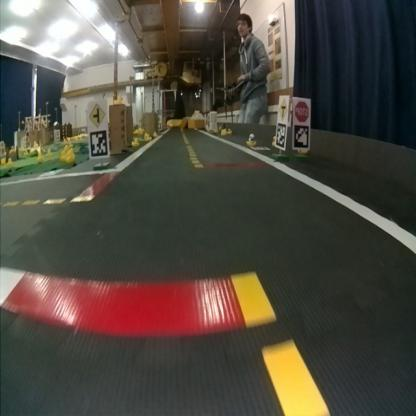Duckie: (250, 132, 256, 144), (132, 138, 138, 146)
Intersection sign: (90, 102, 106, 128), (280, 97, 288, 119)
QR code: (90, 129, 108, 156), (294, 124, 309, 148), (276, 122, 286, 148)
Stop sign: (294, 100, 310, 118)
